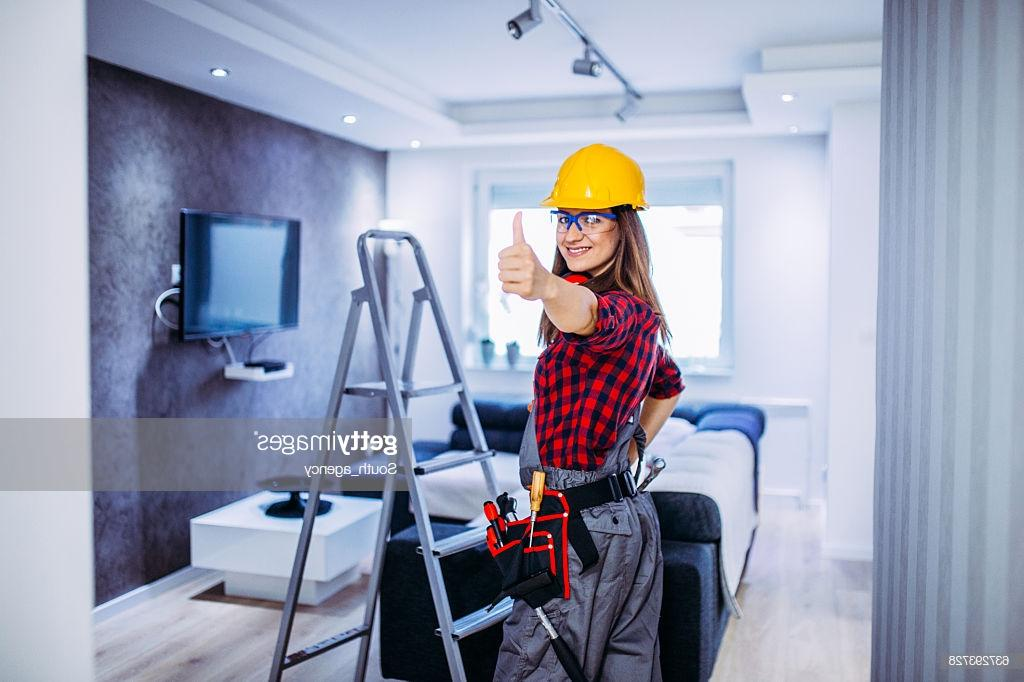thumbsup: (498, 210, 537, 298)
